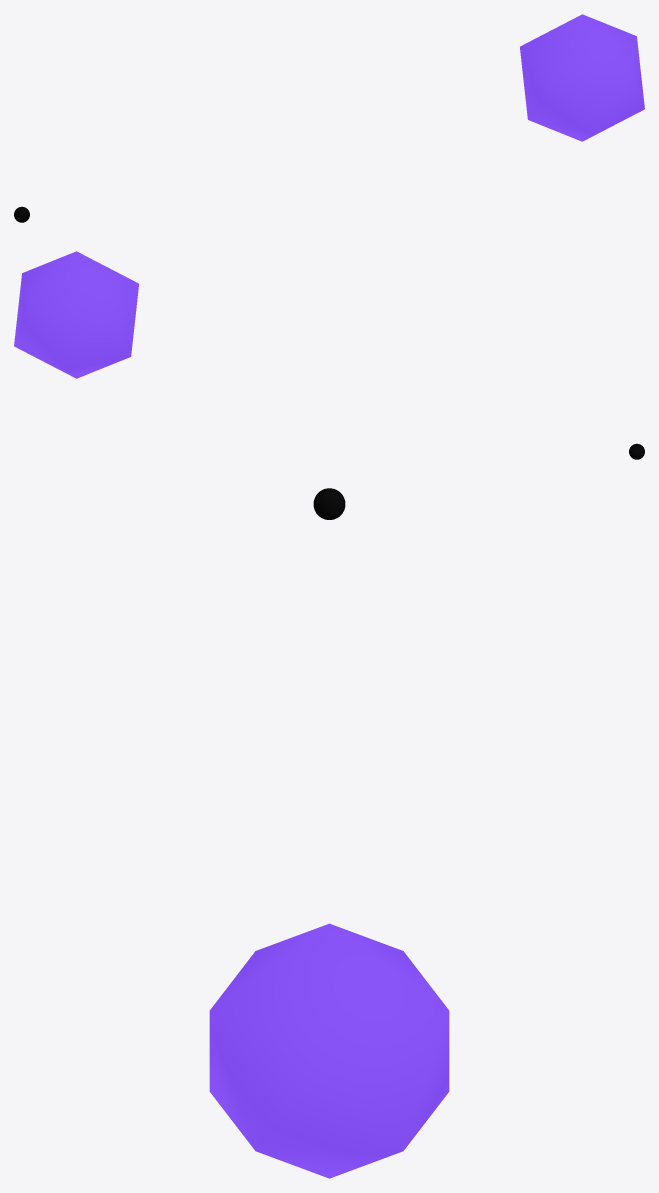
3 views of the same model, one above another, from view 1: azimuth 30°, elevation 25°; view 2: azimuth 150°, elevation 25°; view 3: azimuth 270°, elevation 25° (orthographic). The views are drawn at different scales.
Visible parts, largest first — view 1: Icosphere.001; view 2: Icosphere.001; view 3: Icosphere.001.
Part boxes in pixels (<box>): Icosphere.001: <box>520,14,644,141</box>; Icosphere.001: <box>14,251,138,378</box>; Icosphere.001: <box>209,923,449,1178</box>.
Size of the model in its own units: 10.2 by 2 by 1.7.
